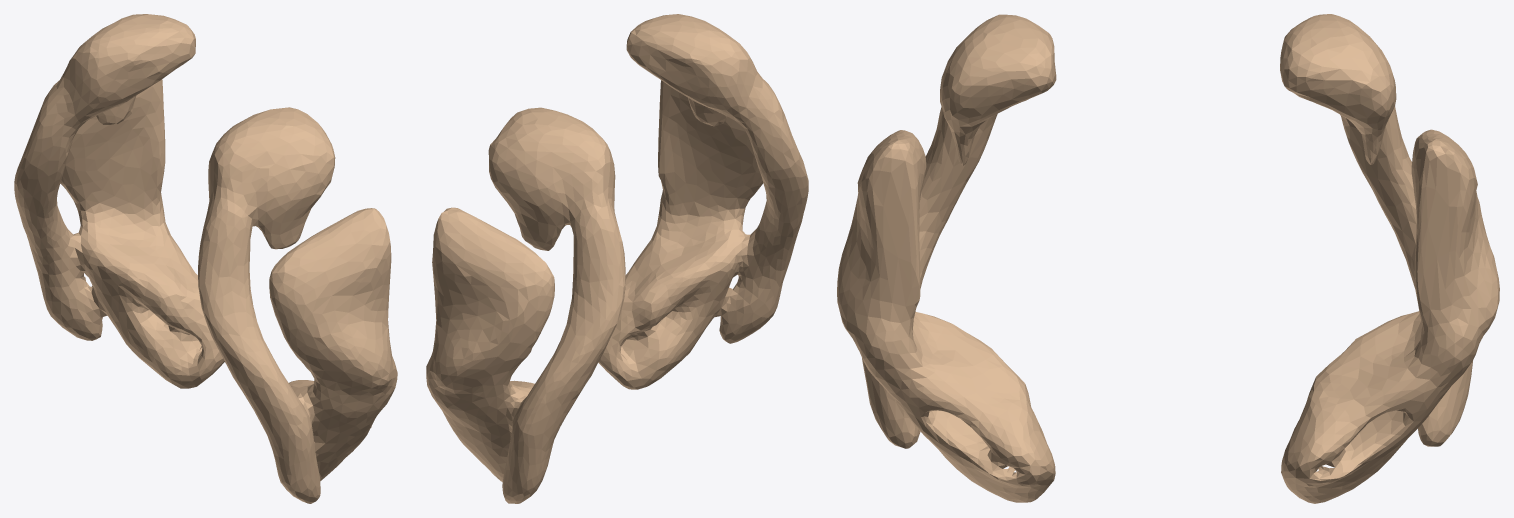
The picture shows the model from 3 angles, left to right: view 1: azimuth 30°, elevation 25°; view 2: azimuth 150°, elevation 25°; view 3: azimuth 270°, elevation 25°; orthographic projection. The views are drawn at different scales.
Visible parts, largest first — view 1: 1132.obj; view 2: 1132.obj; view 3: 1132.obj.
Part boxes in pixels (x1,y1,x2,y2): 1132.obj: (14,14,397,503); 1132.obj: (426,14,808,503); 1132.obj: (837,14,1499,503).
Bounding box in the file's own units: 1971 × 3622 × 4845.
